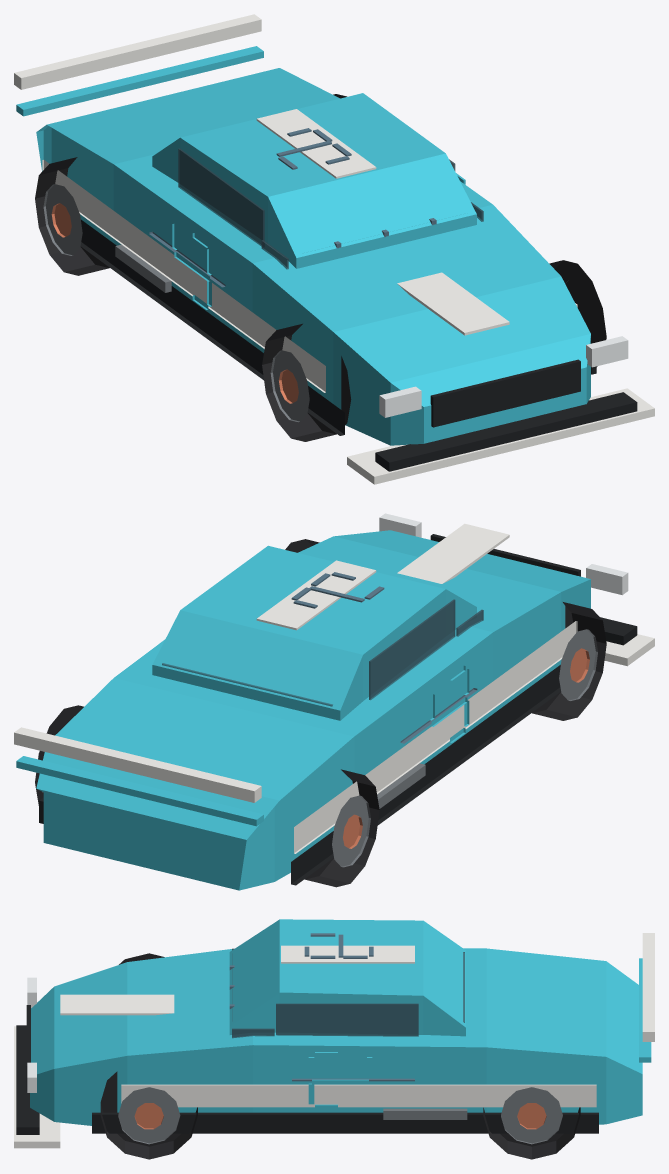
The model's file is web_stock_car_09.gltf.
3 renders of one model, top to bottom at view 1: azimuth 30°, elevation 25°; view 2: azimuth 150°, elevation 25°; view 3: azimuth 270°, elevation 25°, orthographic. The views are drawn at different scales.
Parts seen in each view (by area): view 1: WebStockCar_09; view 2: WebStockCar_09; view 3: WebStockCar_09.
Boxes of the visible parts, x1=… form: WebStockCar_09: x1=14, y1=14, x2=654, y2=484; WebStockCar_09: x1=14, y1=513, x2=654, y2=890; WebStockCar_09: x1=14, y1=919, x2=654, y2=1159.
Size of the model in its own units: 2.35 by 1.34 by 5.26.
